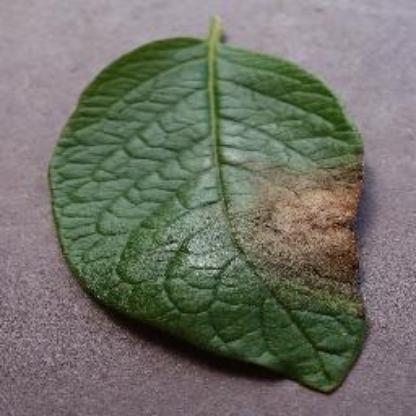Late-Blight: (49, 26, 377, 392)
